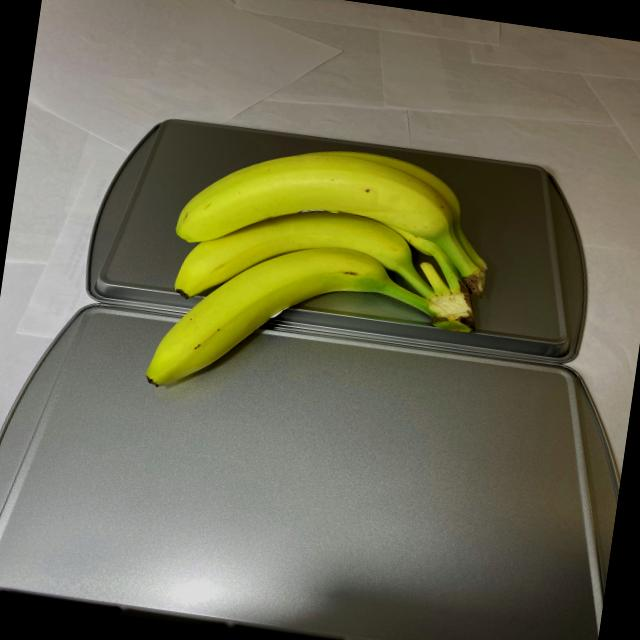banana: (140, 123, 506, 430)
